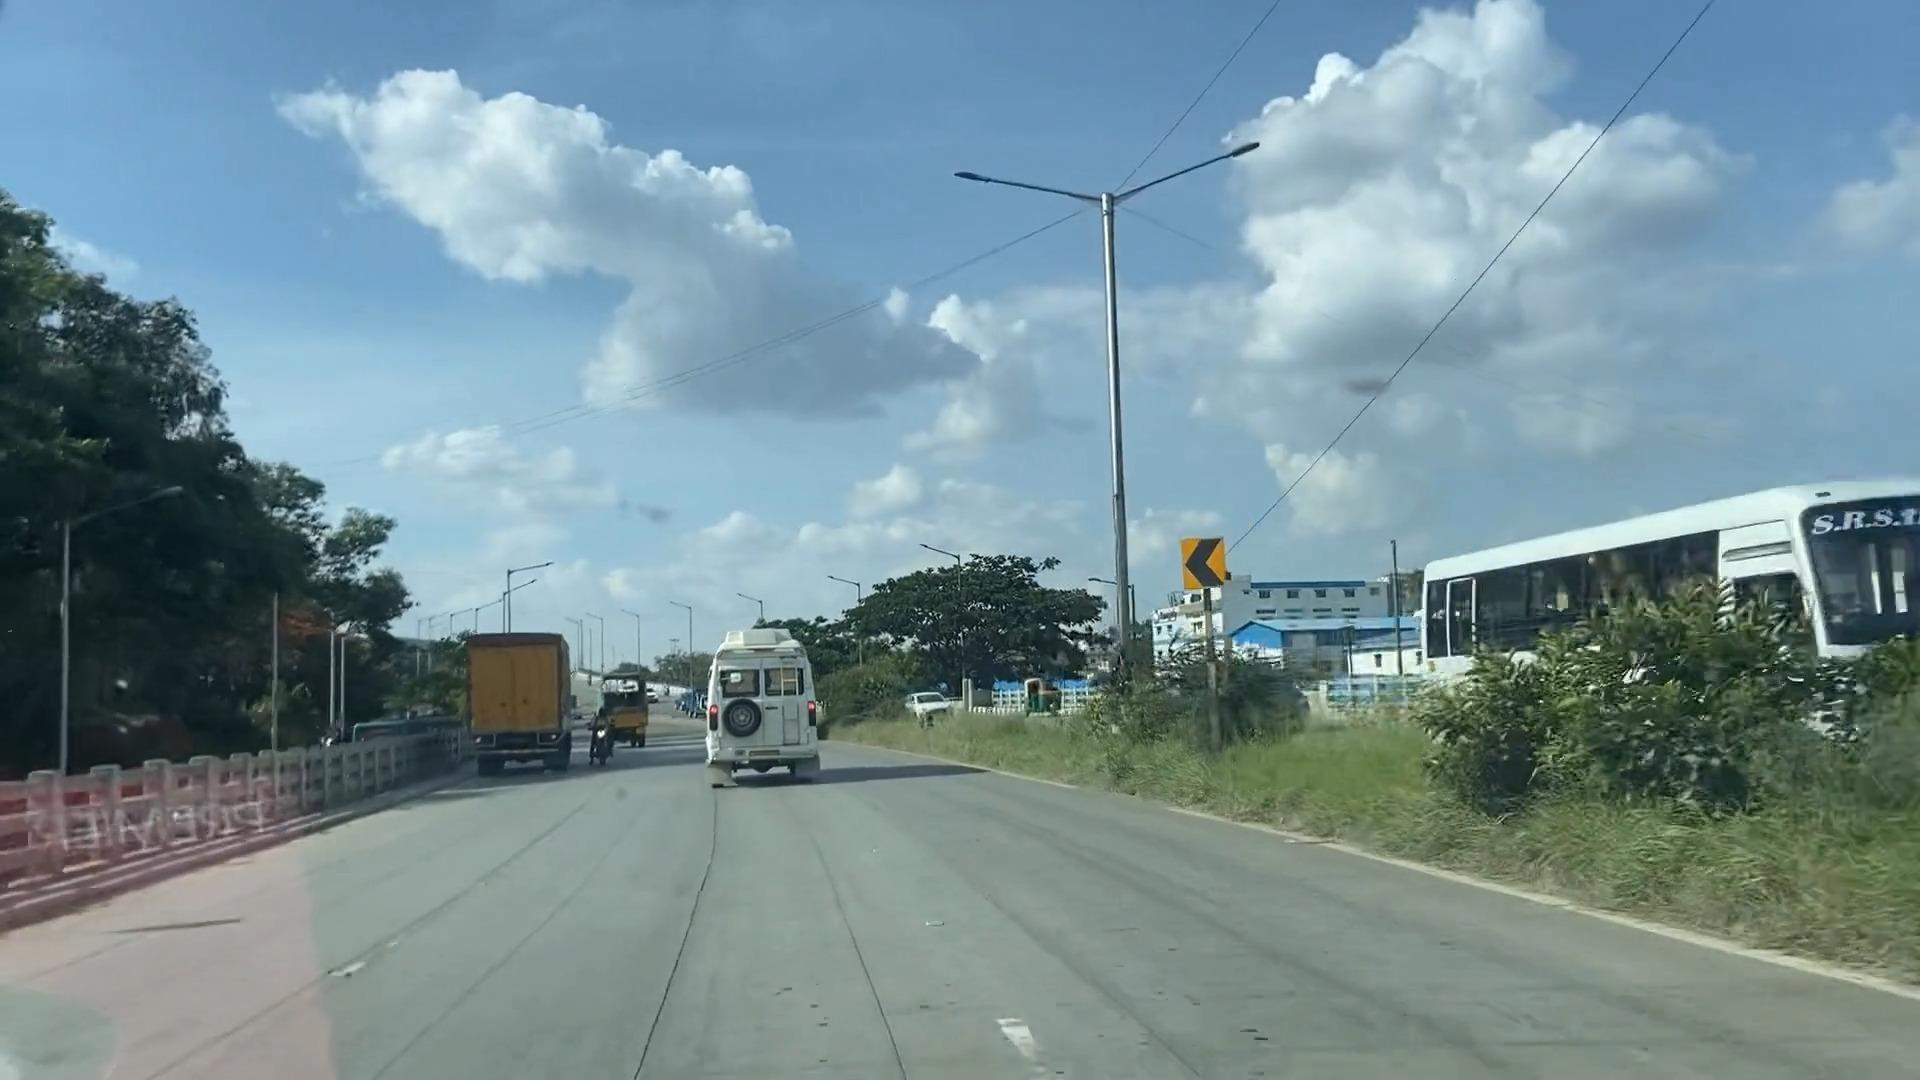HMV: (708, 630, 830, 787), (470, 622, 577, 771)
